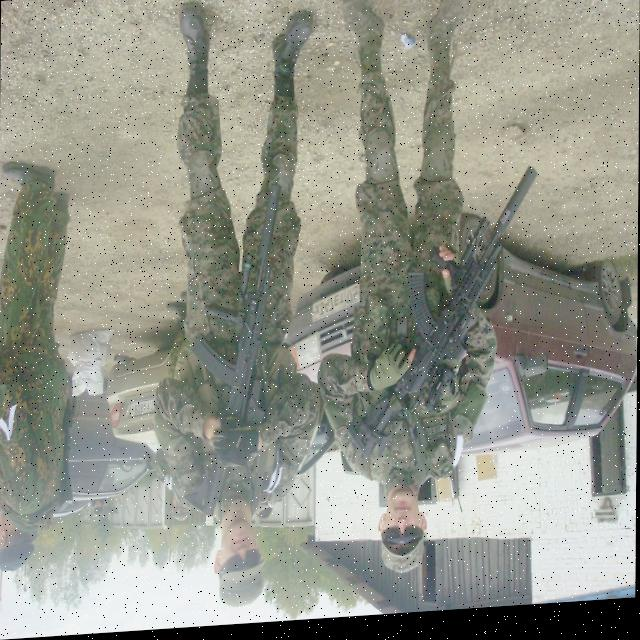firearm: (349, 167, 538, 465), (184, 185, 283, 522)
